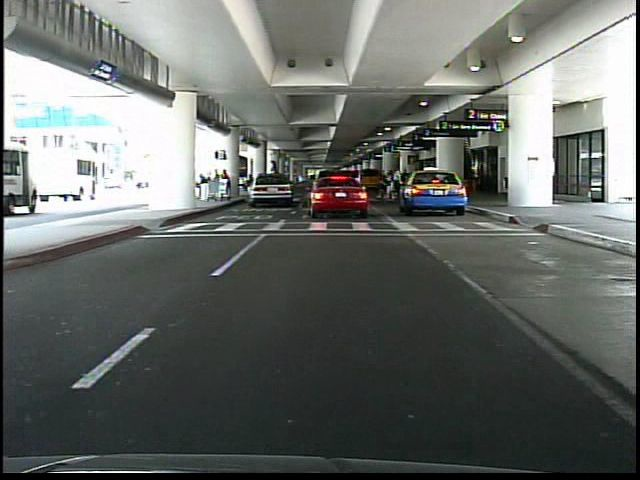person: (270, 165, 284, 204), (401, 166, 411, 203), (393, 167, 404, 200), (377, 174, 386, 201)
